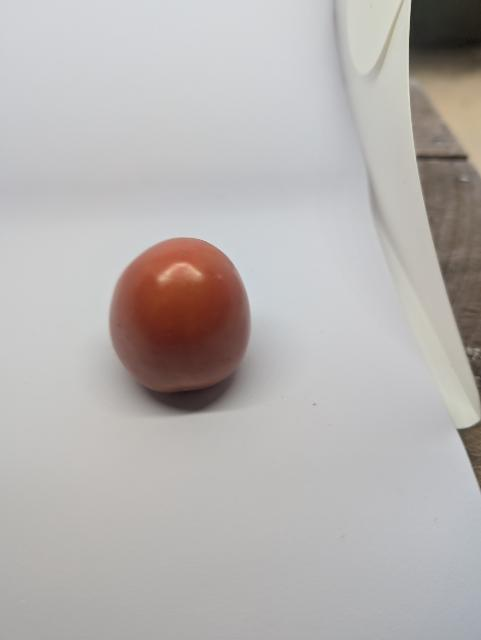red: (102, 232, 272, 410)
